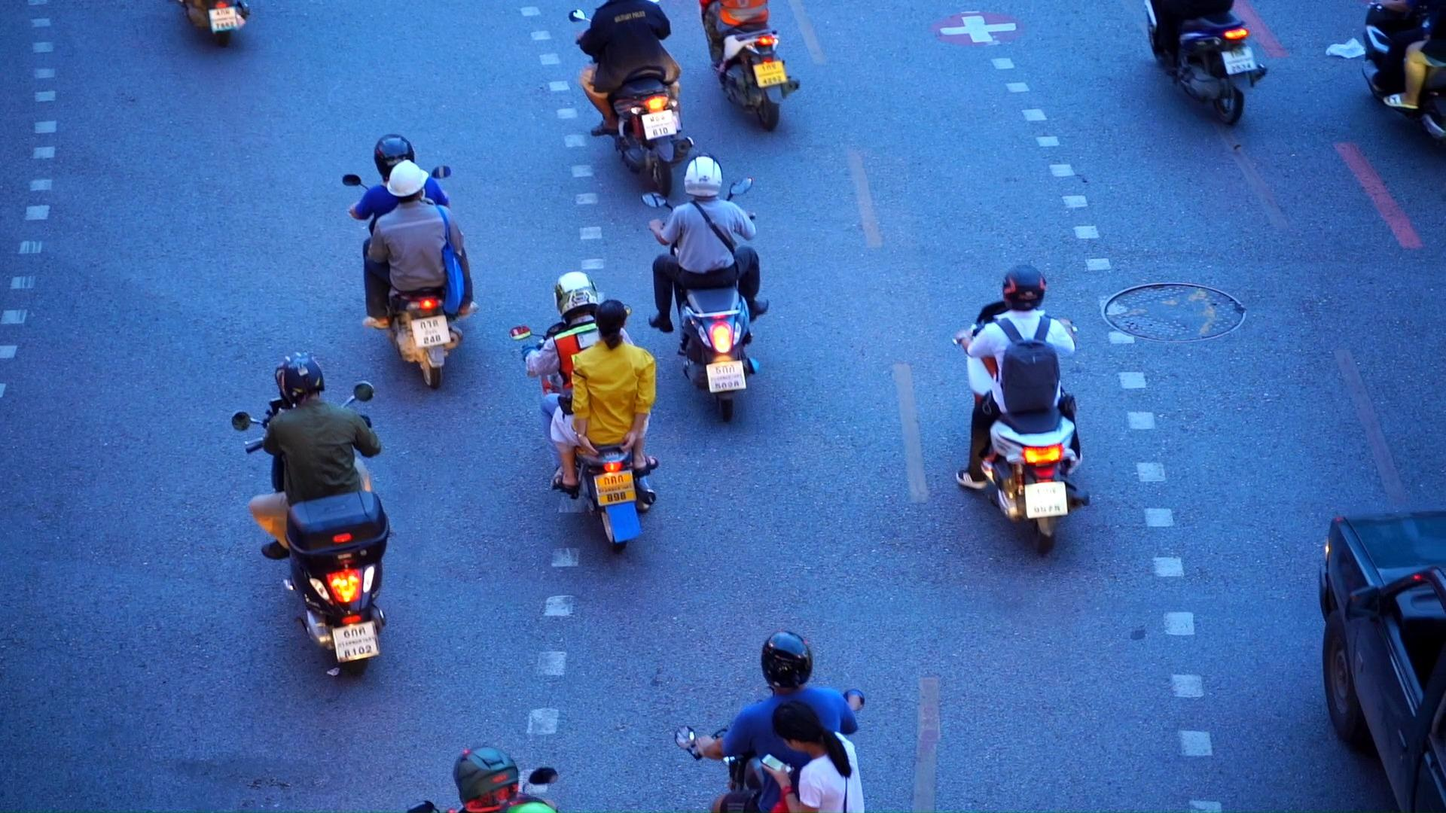driver: (230, 351, 391, 676), (509, 271, 659, 553), (950, 264, 1090, 555), (674, 631, 866, 813), (342, 133, 478, 389), (641, 152, 768, 422), (568, 0, 695, 198), (1142, 0, 1267, 126), (699, 0, 800, 132), (1361, 0, 1446, 146), (406, 746, 560, 813)
helmet: (452, 745, 519, 813), (761, 631, 813, 690), (275, 351, 325, 406), (554, 271, 601, 322), (1002, 264, 1046, 311), (374, 133, 415, 183), (387, 159, 429, 205), (684, 152, 723, 198)
no-helmet: (772, 700, 848, 752), (595, 299, 628, 351)
